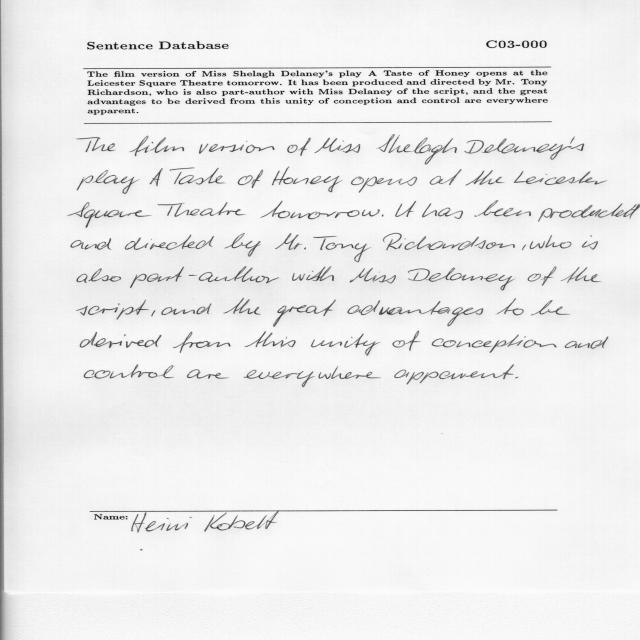word: (425, 137, 584, 165), (348, 300, 484, 326), (68, 202, 200, 227), (130, 266, 279, 288), (244, 366, 381, 387), (408, 268, 515, 291), (394, 365, 514, 385), (432, 335, 557, 353), (383, 233, 515, 250), (260, 201, 380, 219), (538, 203, 640, 222), (272, 167, 342, 192), (273, 300, 336, 327), (311, 334, 380, 356), (77, 170, 140, 194), (313, 236, 371, 262), (76, 300, 149, 320), (125, 234, 214, 250), (514, 171, 607, 185), (81, 332, 162, 348), (173, 331, 231, 353), (84, 365, 174, 379), (130, 136, 185, 156), (351, 177, 417, 193), (378, 135, 431, 154), (199, 141, 275, 154), (474, 200, 531, 217), (170, 168, 226, 185), (224, 233, 261, 257), (245, 331, 296, 348), (350, 268, 396, 283), (315, 138, 360, 153), (77, 268, 121, 283), (422, 203, 463, 219), (561, 267, 602, 283), (223, 298, 261, 315), (465, 170, 505, 186), (200, 202, 245, 216), (292, 266, 334, 281), (161, 303, 212, 315), (531, 300, 570, 315), (392, 331, 421, 351), (530, 235, 571, 249), (565, 336, 609, 349), (77, 137, 115, 152), (528, 266, 556, 286), (275, 233, 306, 250), (430, 169, 462, 185), (71, 238, 111, 250), (497, 298, 524, 315), (287, 137, 311, 156), (238, 170, 263, 188), (187, 369, 229, 379), (395, 201, 416, 217), (582, 235, 598, 250), (150, 168, 163, 186), (152, 310, 156, 317), (522, 245, 526, 251), (382, 214, 383, 217), (516, 377, 519, 378)
